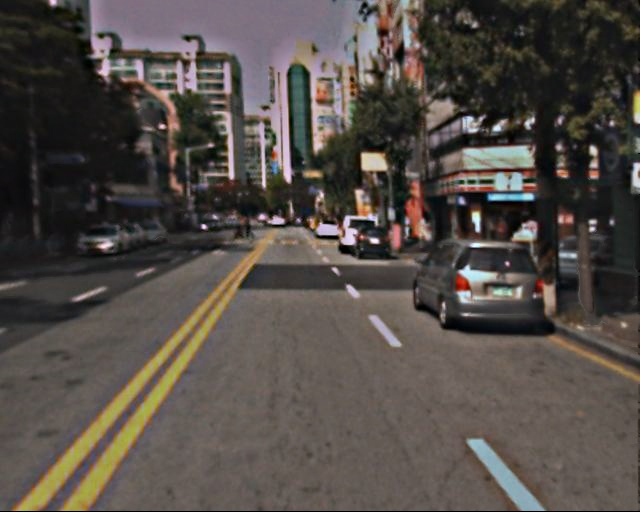person: (492, 214, 515, 264), (244, 213, 257, 244)
